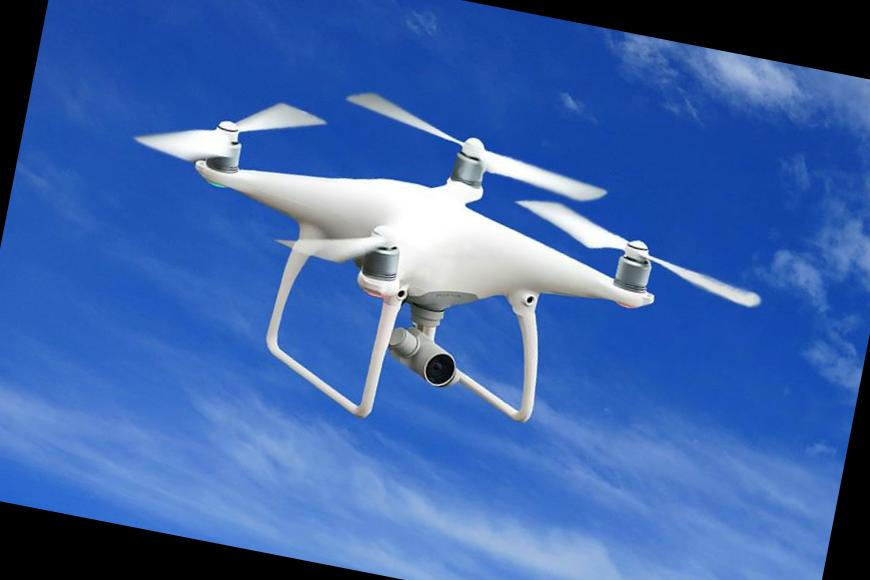drone: (78, 69, 734, 464)
